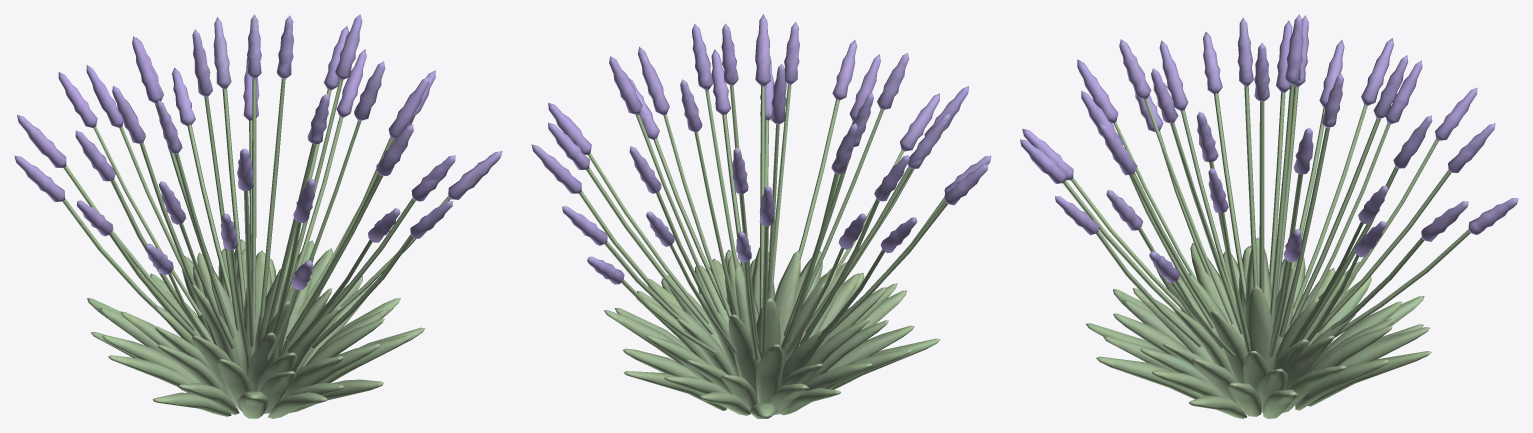
The model's file is lavender-bush.glb.
3 views of the same model, side by side, from view 1: azimuth 30°, elevation 25°; view 2: azimuth 150°, elevation 25°; view 3: azimuth 270°, elevation 25° (orthographic). The views are drawn at different scales.
Visible parts, largest first — view 1: lavender-bush_body; view 2: lavender-bush_body; view 3: lavender-bush_body.
Boxes of the visible parts, <box> form: lavender-bush_body: <box>14,14,502,418</box>; lavender-bush_body: <box>531,14,991,418</box>; lavender-bush_body: <box>1020,14,1518,418</box>.
Bounding box in the file's own units: 0.6468 × 0.569 × 0.6906.
Materials: 1 (1 with a texture image).
